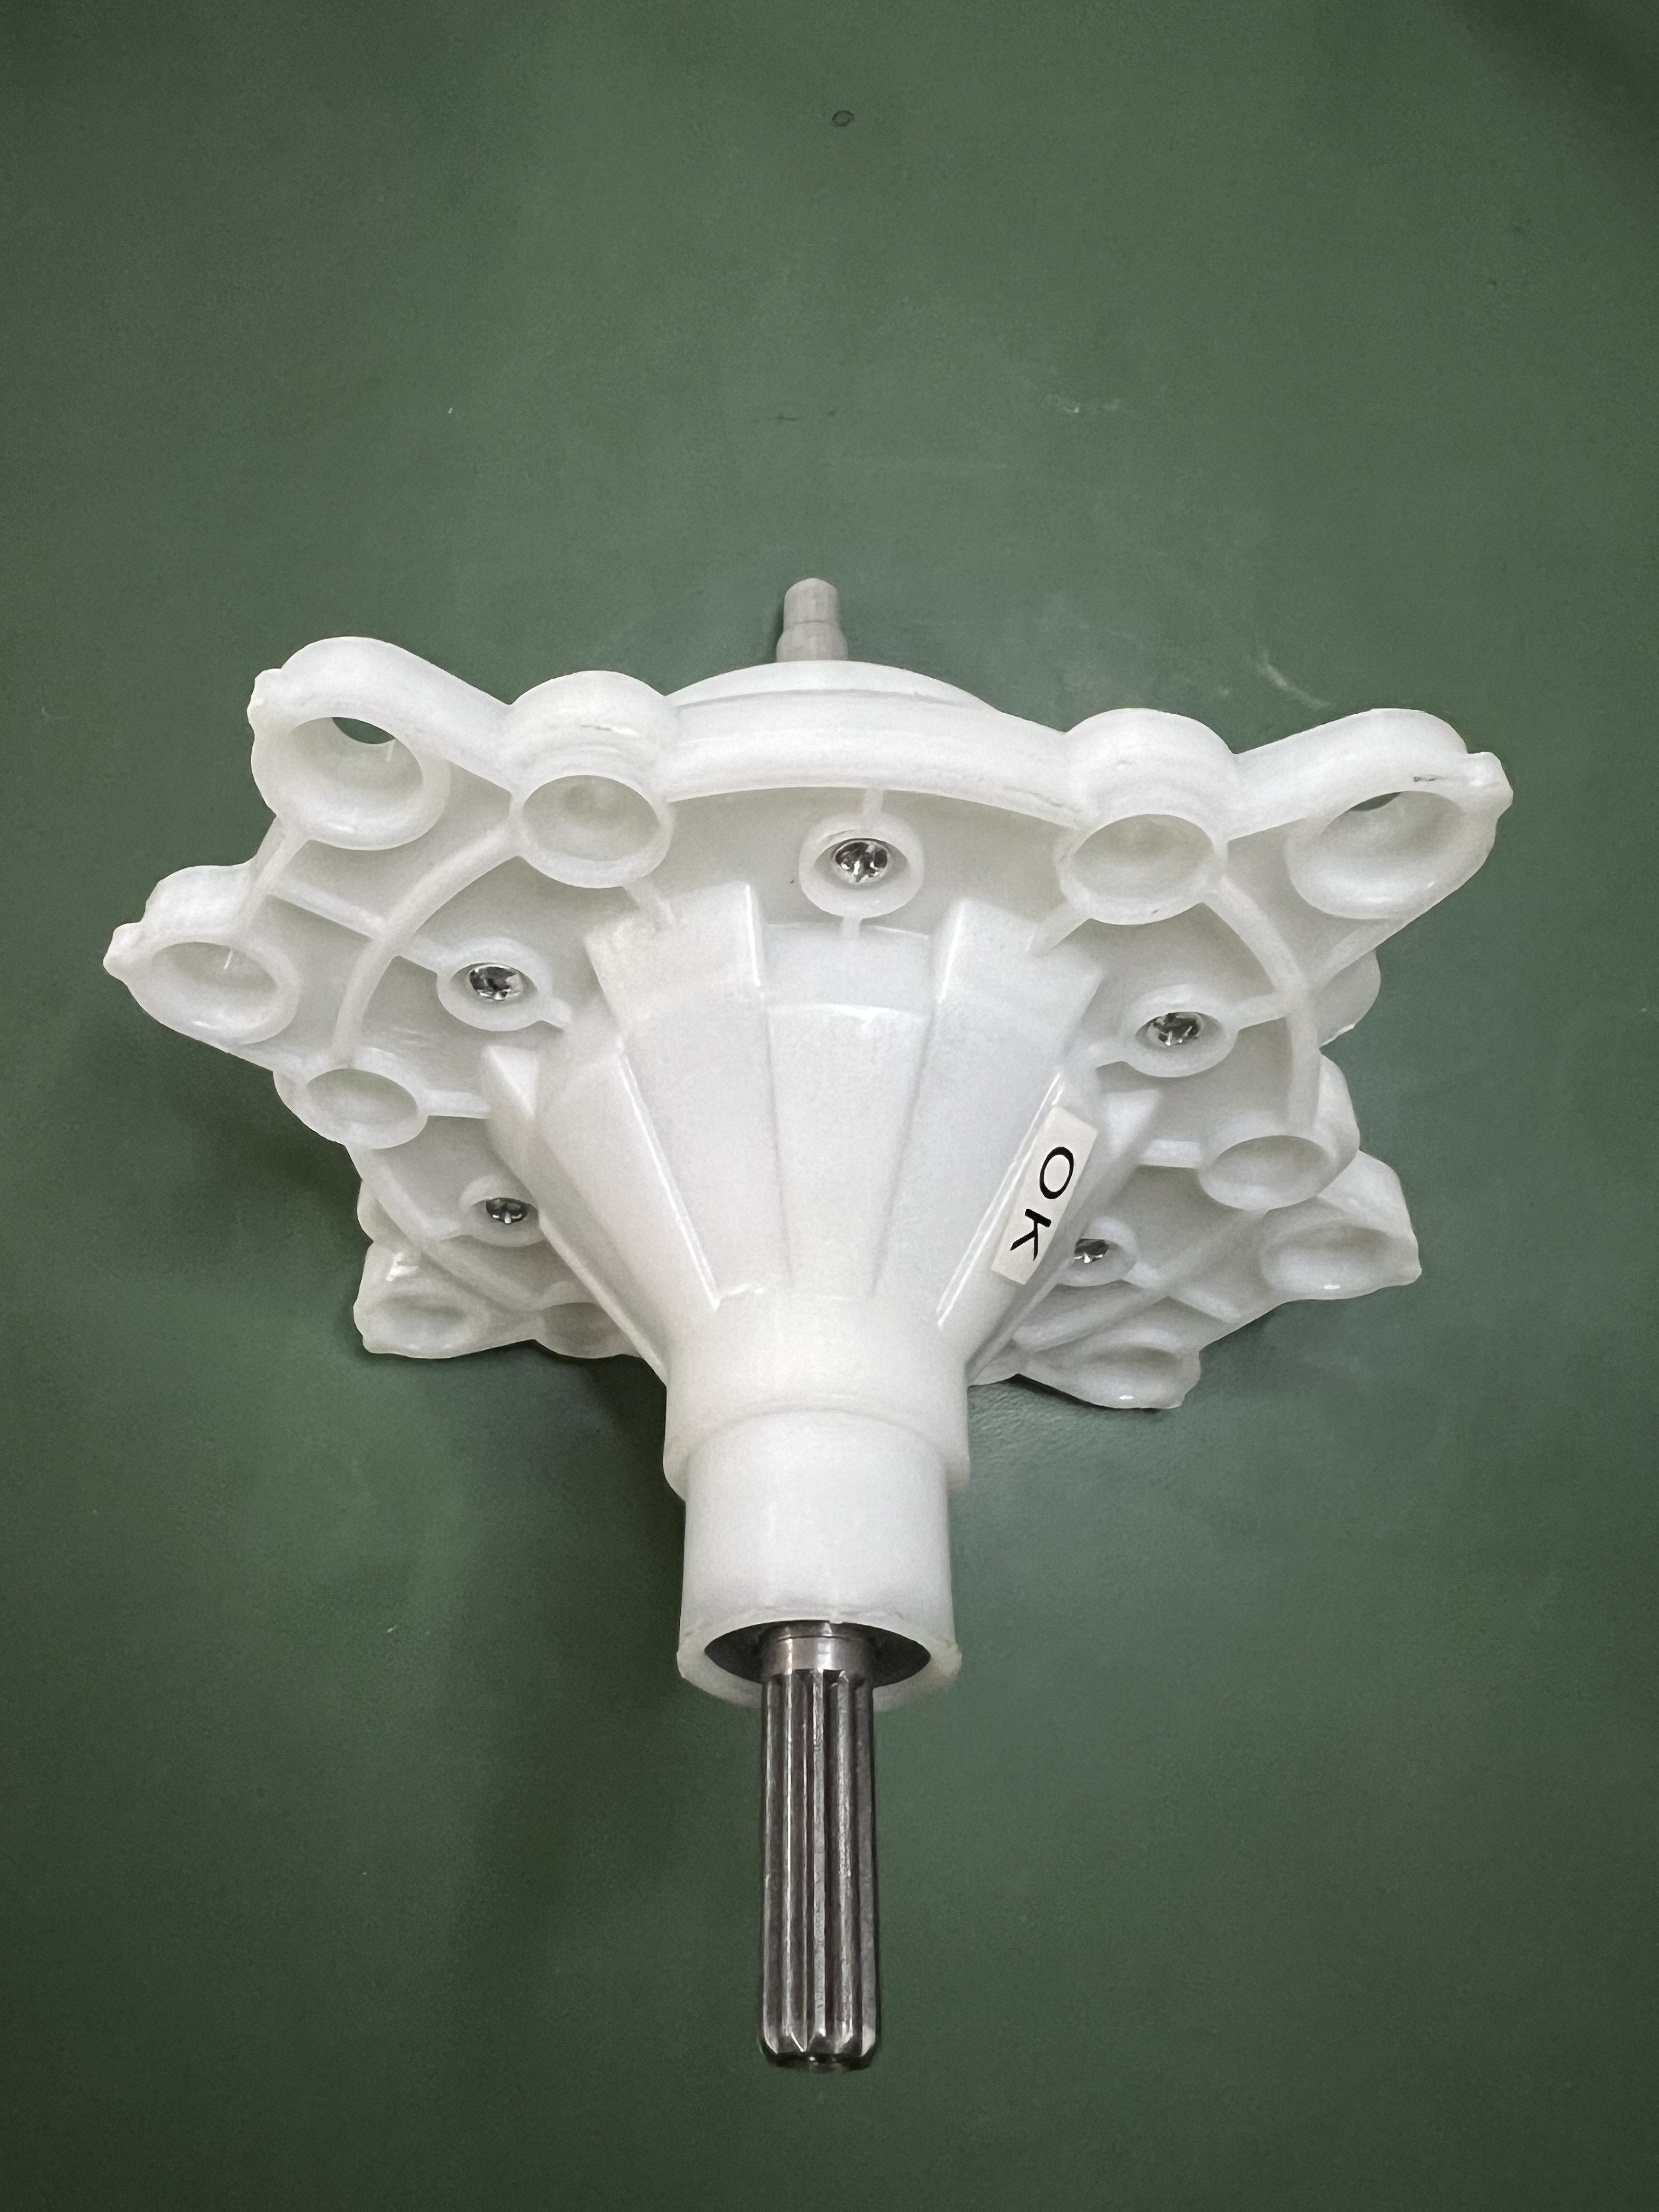gear_box_design: (94, 568, 1427, 2064)
